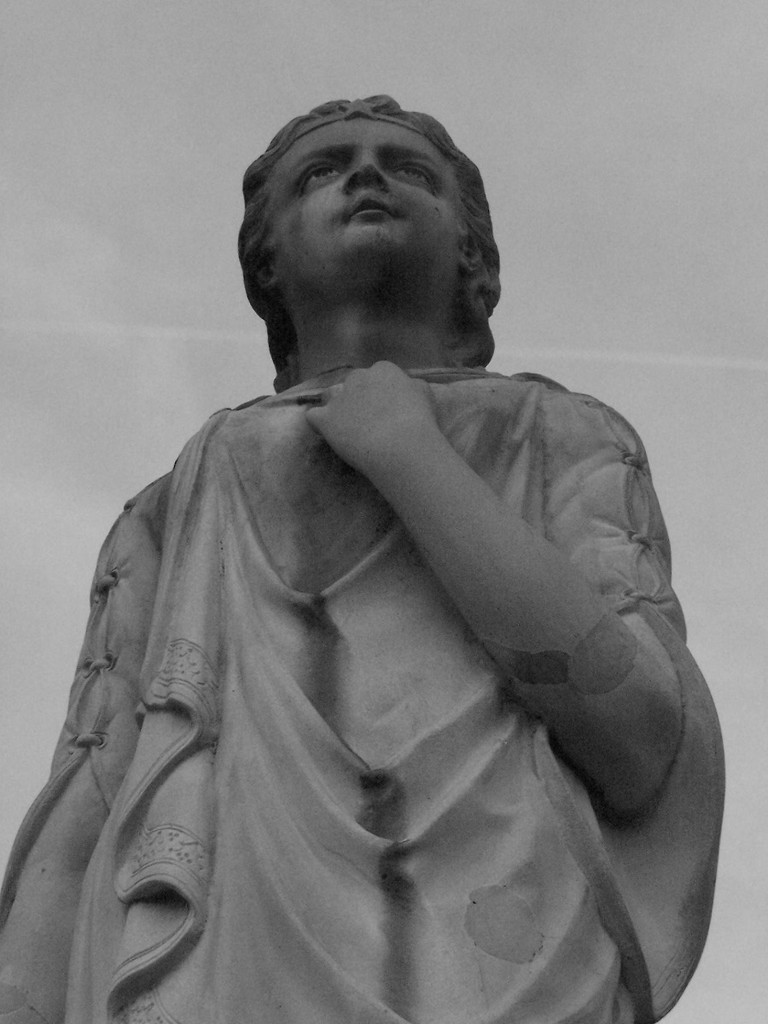Human_hand: (305, 358, 434, 460)
